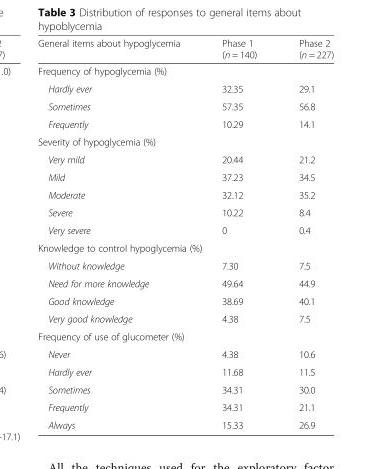table: (37, 37, 333, 430)
table column: (37, 37, 200, 430), (200, 37, 277, 430), (277, 37, 333, 430)
table column header: (37, 37, 333, 62)
table projected row header: (37, 132, 333, 150), (37, 238, 333, 256), (37, 327, 333, 345), (37, 62, 333, 79)
table row: (37, 37, 333, 62), (37, 79, 333, 97), (37, 114, 333, 132), (37, 132, 333, 150), (37, 150, 333, 168), (37, 185, 333, 203), (37, 203, 333, 221), (37, 238, 333, 256), (37, 256, 333, 274), (37, 291, 333, 309), (37, 309, 333, 327), (37, 327, 333, 345), (37, 362, 333, 380), (37, 380, 333, 398), (37, 62, 333, 79), (37, 97, 333, 114), (37, 168, 333, 185), (37, 221, 333, 238), (37, 274, 333, 291), (37, 345, 333, 362), (37, 398, 333, 415), (37, 415, 333, 430)
